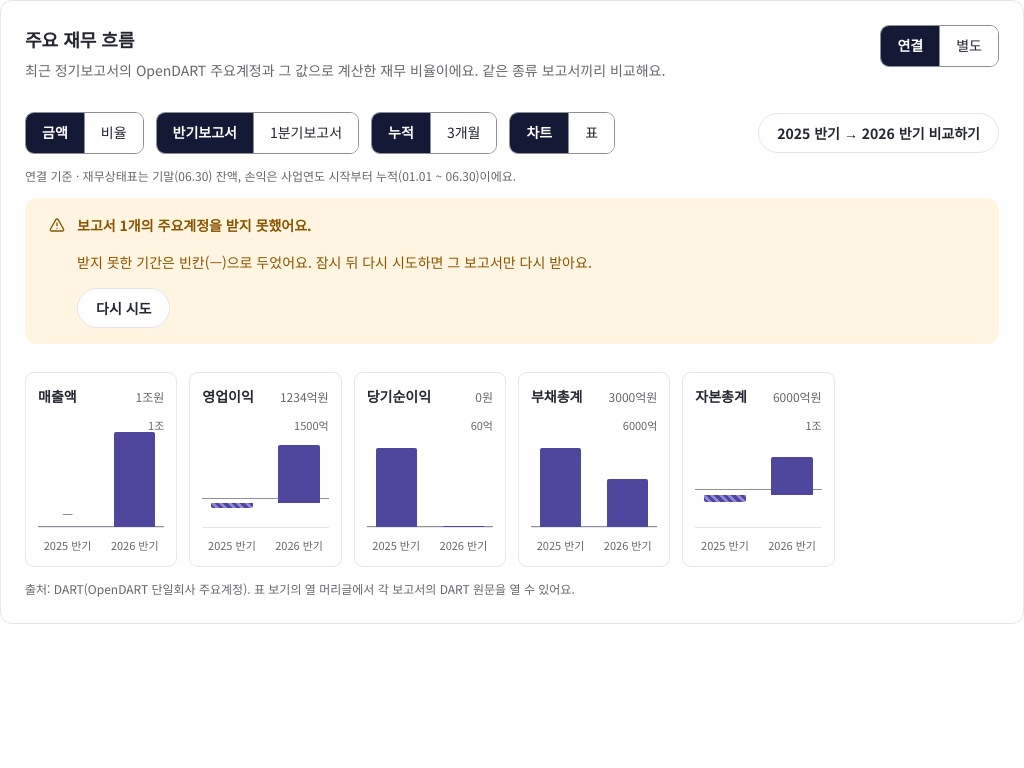
it: 재무 비율 보기 › 계산하지 못한 칸은 0이 아니라 이유를 보인다
Expected: the element named "보여 줄 값" is shown, [25, 112, 144, 154]
Click the button "비율" at [113, 133], box [84, 113, 143, 153]
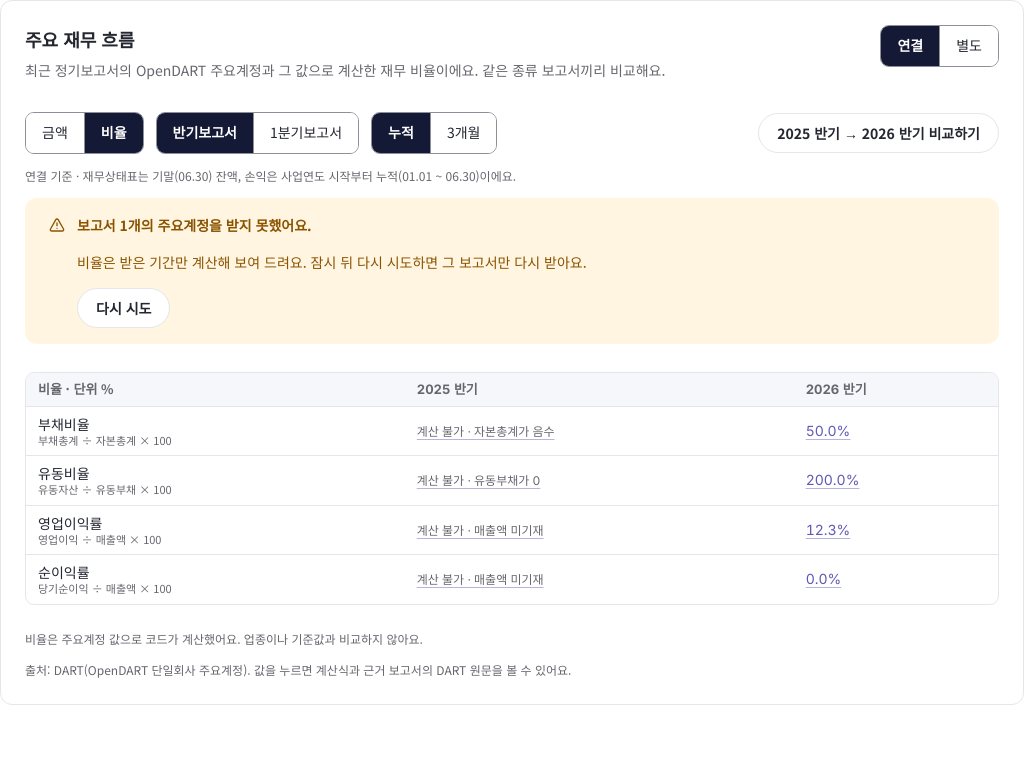
Expected: the button with aria-label "2025 반기 부채비율 계산 불가 · 자본총계가 음수" is shown, [417, 424, 555, 439]
Expected: the button with aria-label "2025 반기 유동비율 계산 불가 · 유동부채가 0" is shown, [417, 473, 540, 489]
Expected: the button with aria-label "2025 반기 영업이익률 계산 불가 · 매출액 미기재" is shown, [417, 523, 544, 538]
